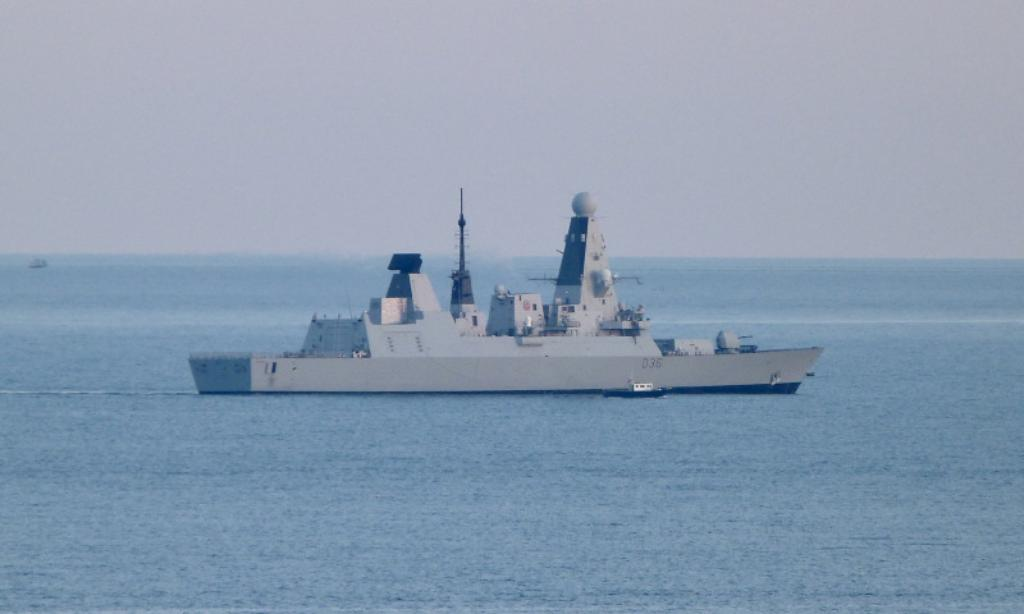Warship: (186, 182, 826, 396)
